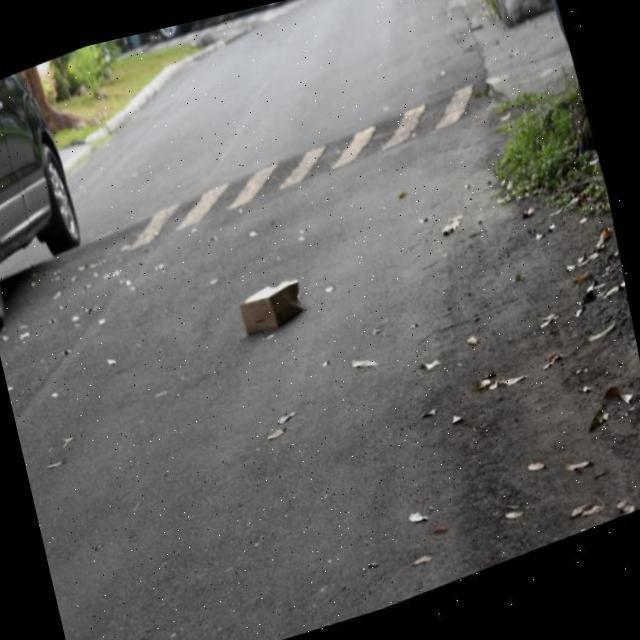Paper_Bag: (239, 277, 315, 344)
